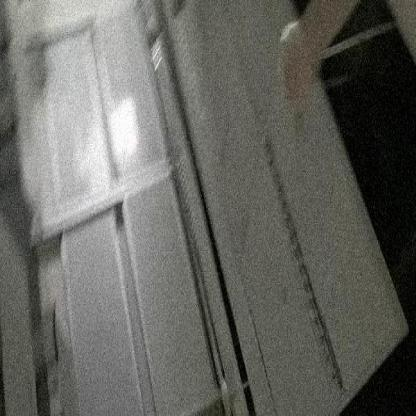light_off: (256, 118, 350, 398)
